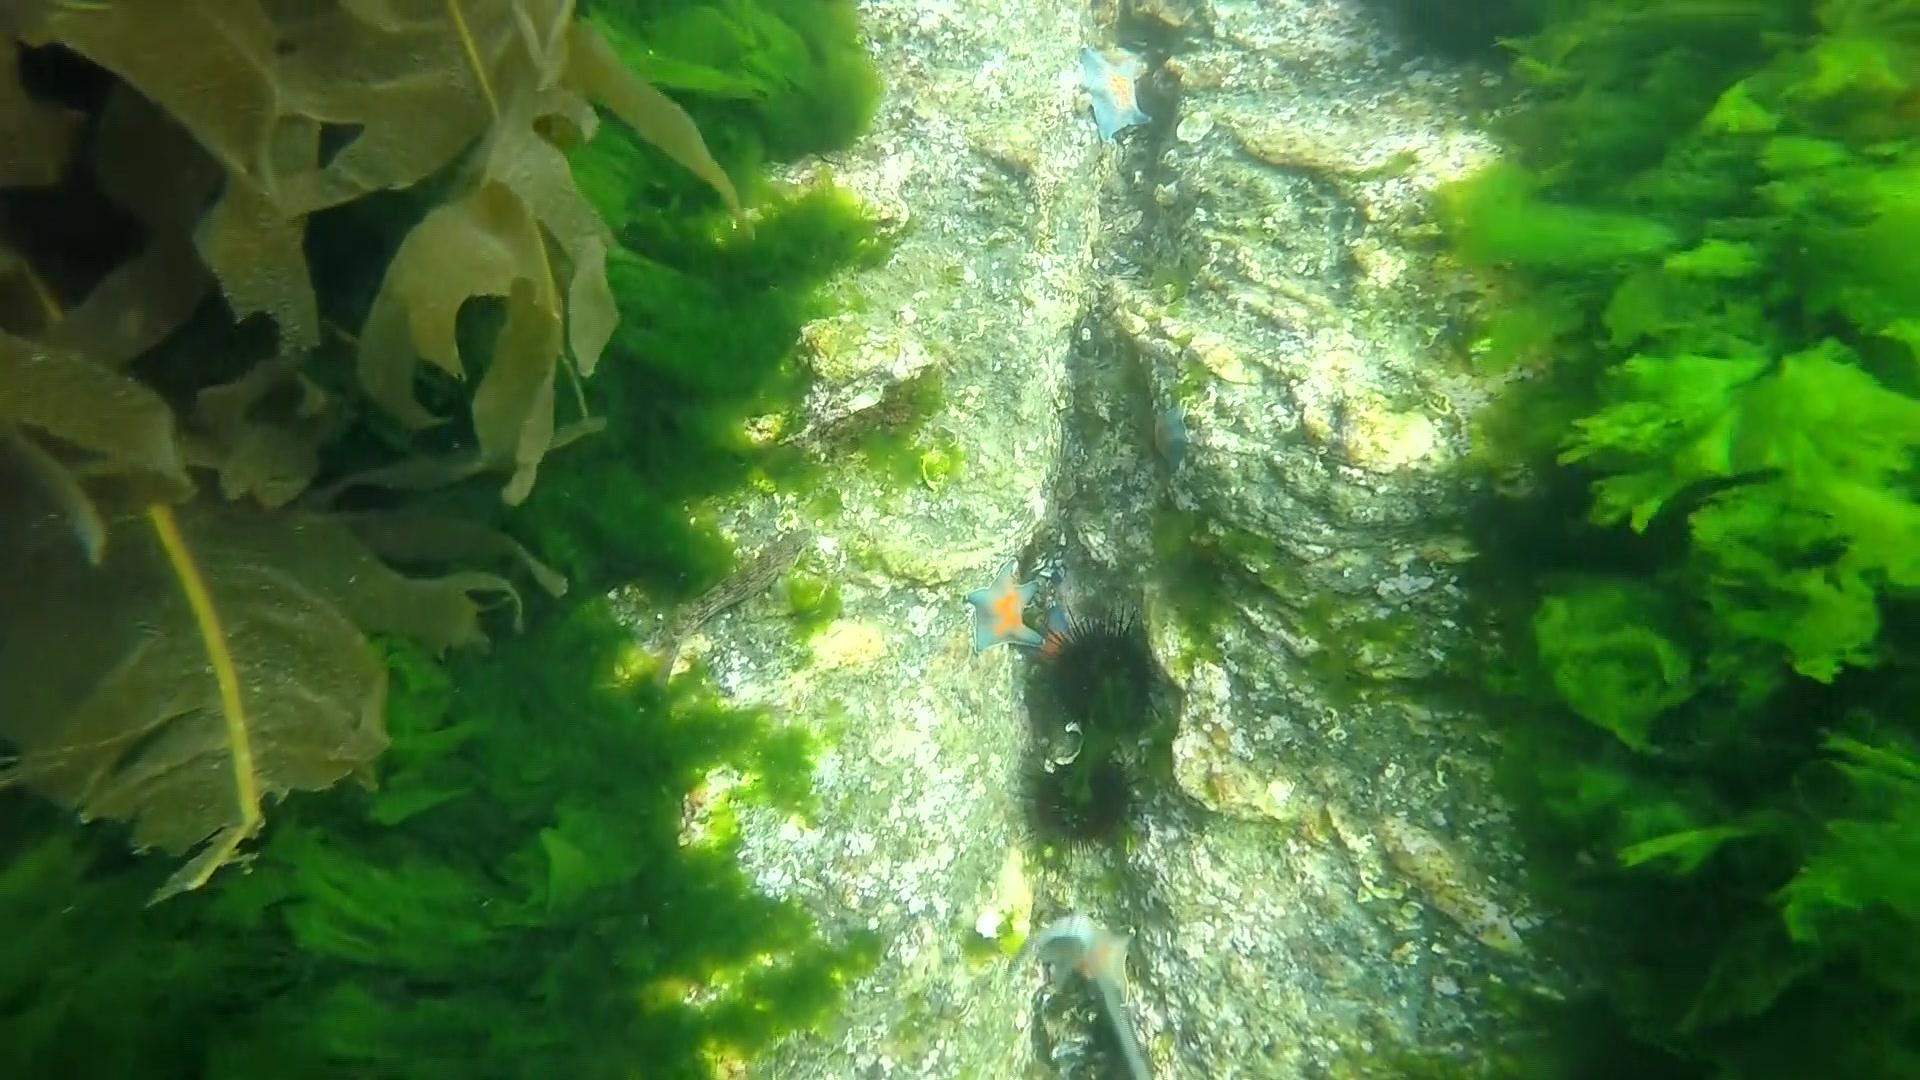echinus: (1025, 595, 1172, 741), (1011, 744, 1160, 873)
starfish: (1036, 909, 1147, 1015), (956, 560, 1056, 658), (1065, 45, 1156, 146), (1151, 400, 1199, 473)
